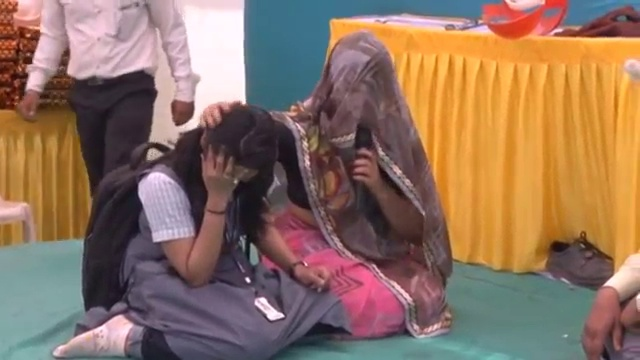helmet_off: (189, 106, 284, 210), (323, 34, 395, 129)
person: (54, 105, 348, 356), (279, 31, 451, 341), (19, 0, 202, 197)
